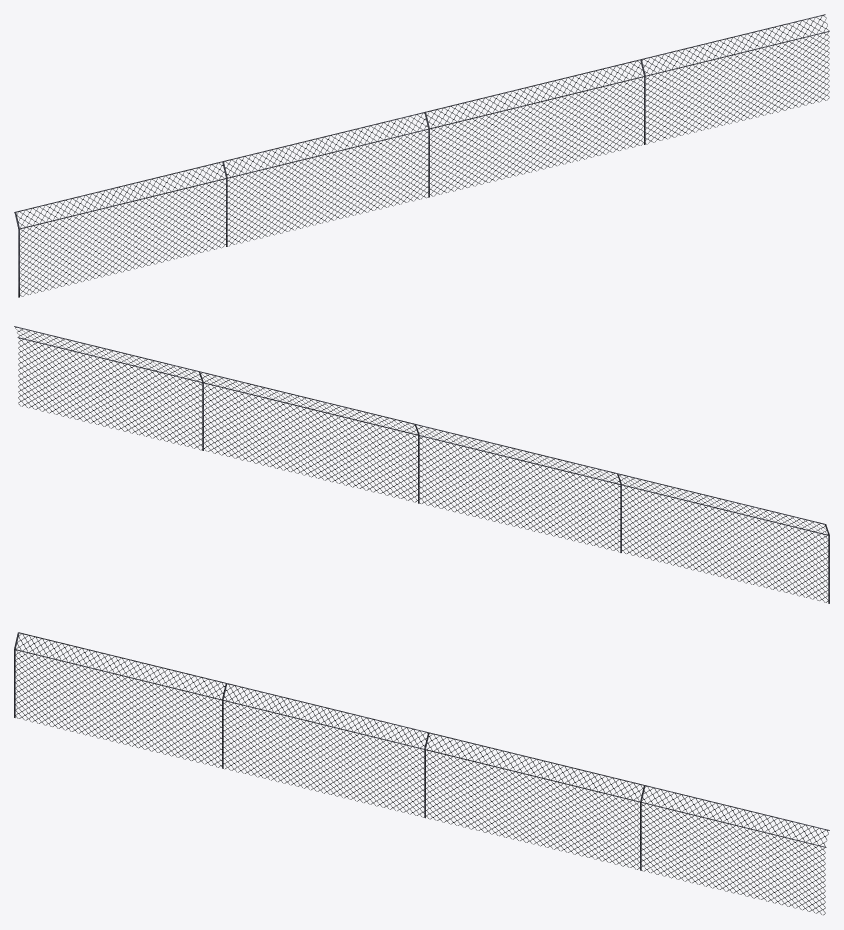
File: M10_Z1_FootBridge02B.glb
3 renders of one model, top to bottom at view 1: azimuth 30°, elevation 25°; view 2: azimuth 150°, elevation 25°; view 3: azimuth 330°, elevation 25°, orthographic.
Visible parts, largest first — view 1: M10_Z1_FOOTBRIDGE02B; view 2: M10_Z1_FOOTBRIDGE02B; view 3: M10_Z1_FOOTBRIDGE02B.
Part boxes in pixels (x1,y1,x2,y2): M10_Z1_FOOTBRIDGE02B: (14,14,829,297); M10_Z1_FOOTBRIDGE02B: (14,326,829,603); M10_Z1_FOOTBRIDGE02B: (14,632,829,915).
Size of the model in its own units: 15.23 by 1.48 by 0.141.
2 materials, 2 textured.
